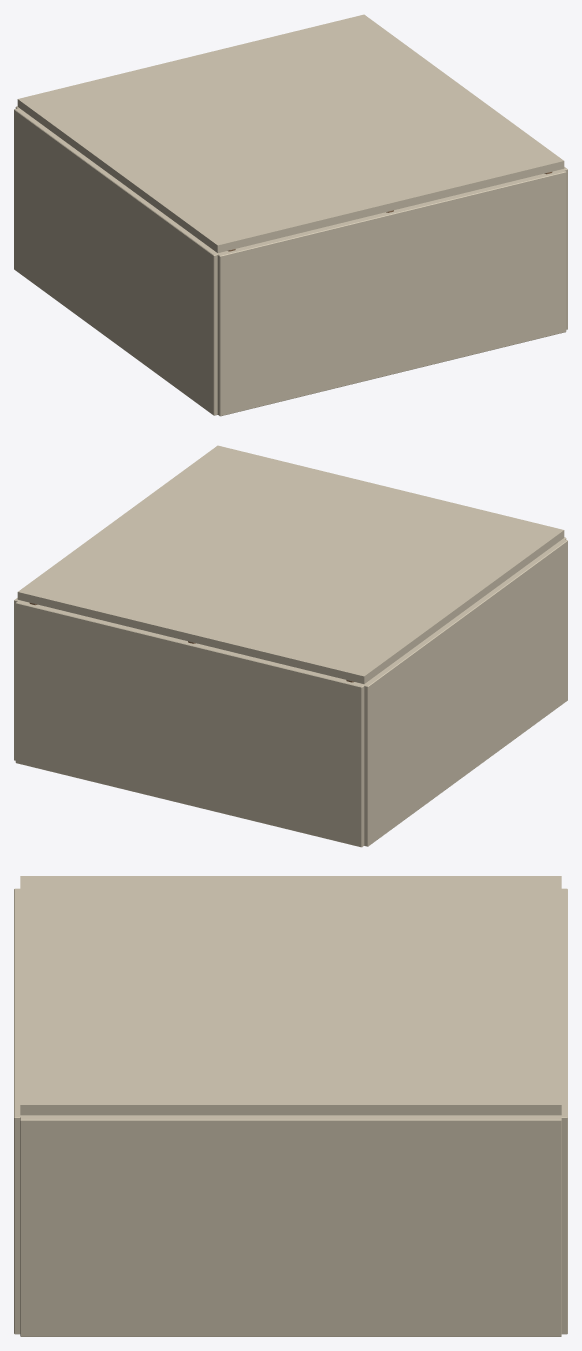
3 views of the same model, one above another, from view 1: azimuth 30°, elevation 25°; view 2: azimuth 150°, elevation 25°; view 3: azimuth 270°, elevation 25° (orthographic). The views are drawn at different scales.
Visible parts, largest first — view 1: Ceiling.003, Front_wall.002, Left_wall.002; view 2: Ceiling.003, Back_wall.002, Left_wall.002; view 3: Ceiling.003, Right_wall.002, Back_wall.002, Front_wall.002.
Part boxes in pixels (x1,y1,x2,y2): Ceiling.003: (17, 14, 564, 252); Front_wall.002: (217, 170, 566, 416); Left_wall.002: (14, 108, 219, 415); Ceiling.003: (17, 445, 564, 683); Back_wall.002: (15, 600, 364, 847); Left_wall.002: (364, 539, 567, 846); Ceiling.003: (20, 876, 561, 1115); Right_wall.002: (20, 1115, 561, 1336); Back_wall.002: (556, 888, 567, 1334); Front_wall.002: (14, 888, 25, 1334).
Size of what is drawn, in the model's own units: 7.16 by 3.28 by 7.16.
